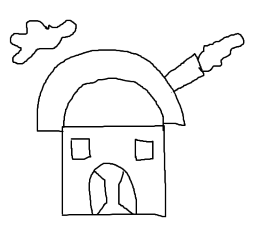clouds: (8, 16, 75, 65)
door: (84, 162, 144, 220)
open_window: (131, 137, 158, 164), (68, 135, 94, 163)
roof: (36, 48, 186, 131)
smoking_chimney: (164, 27, 250, 93)
wall: (56, 120, 169, 220)
